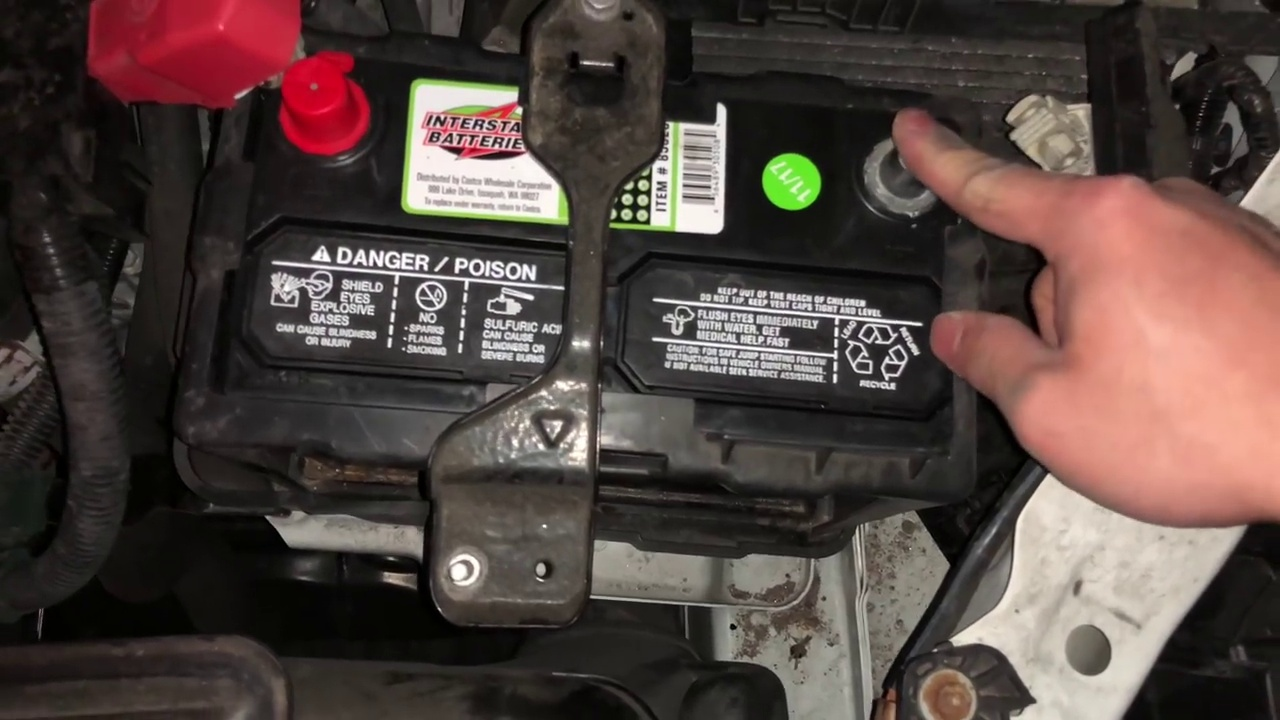battery: (235, 87, 952, 435)
pos_disconnected: (158, 10, 383, 159)
pos_touched: (849, 108, 1086, 248)
